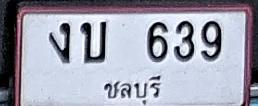3: (174, 20, 194, 61)
6: (148, 20, 167, 62)
9: (201, 20, 221, 61)
A07: (49, 22, 70, 63)
A26: (80, 20, 107, 63)
CBI: (100, 72, 163, 106)
